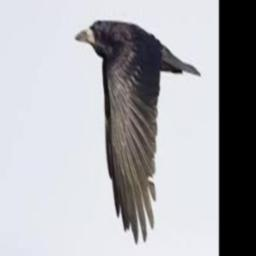Crow: (74, 20, 199, 240)
